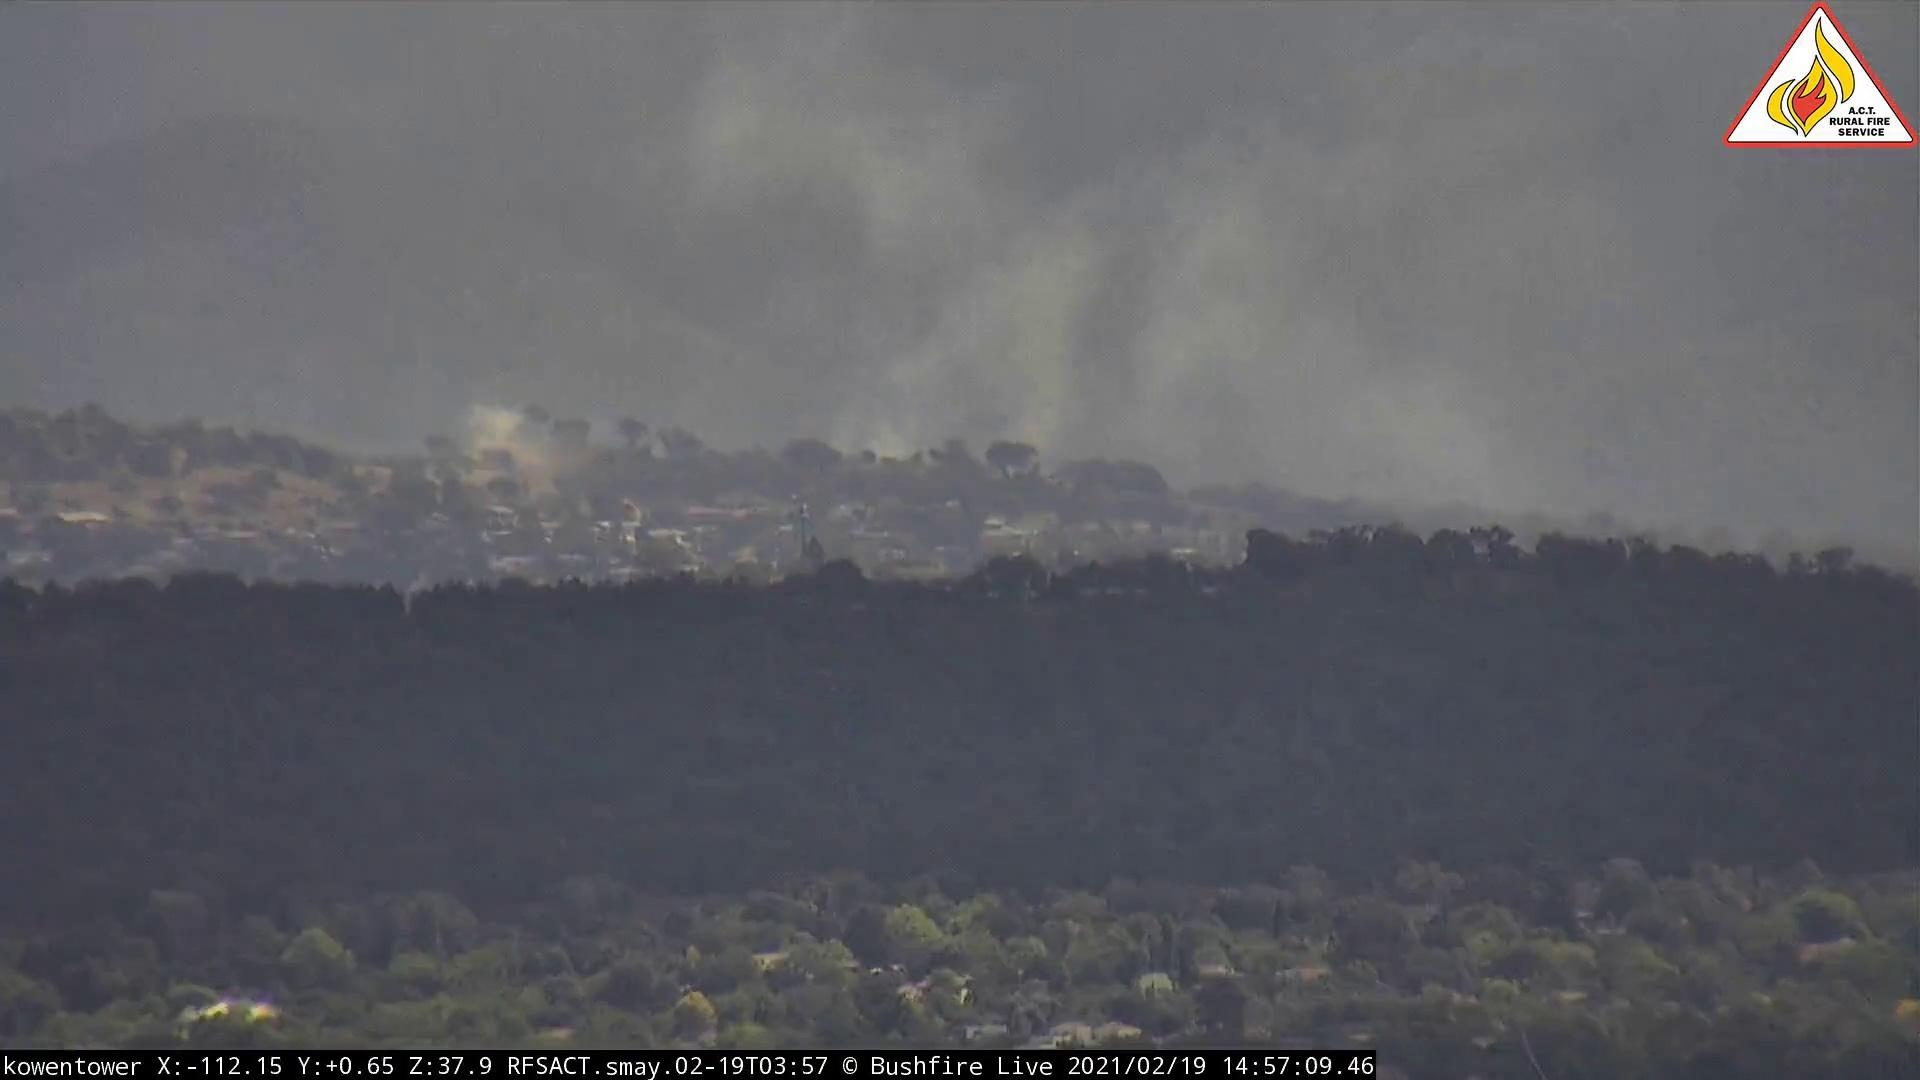Smoke: (651, 57, 1568, 524), (415, 382, 618, 546)
